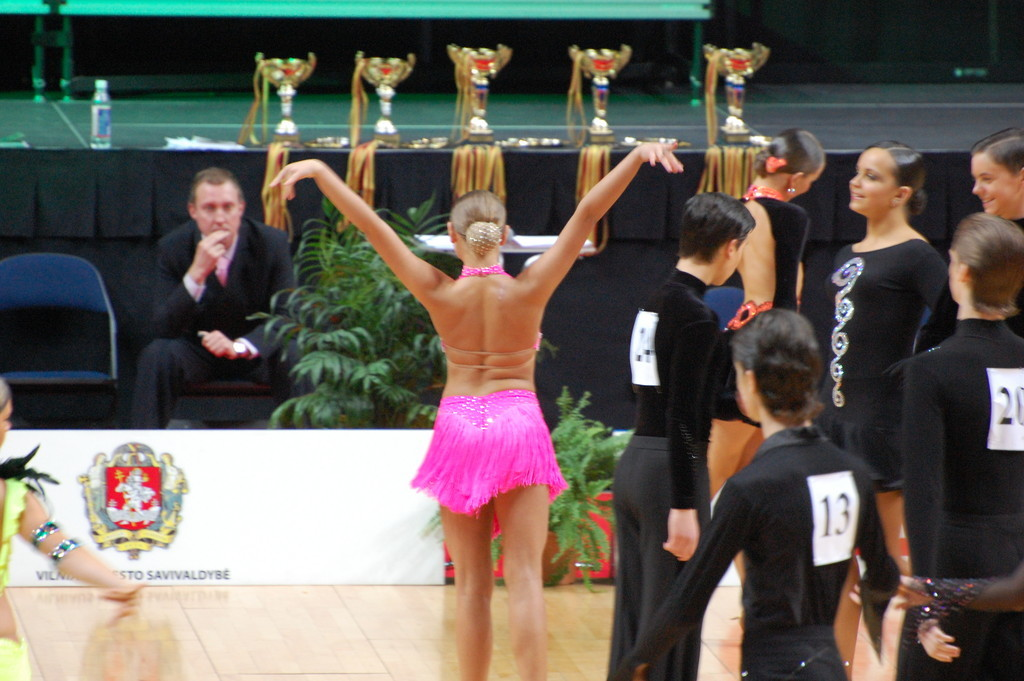Person: (607, 127, 1024, 681), (125, 166, 317, 427)
